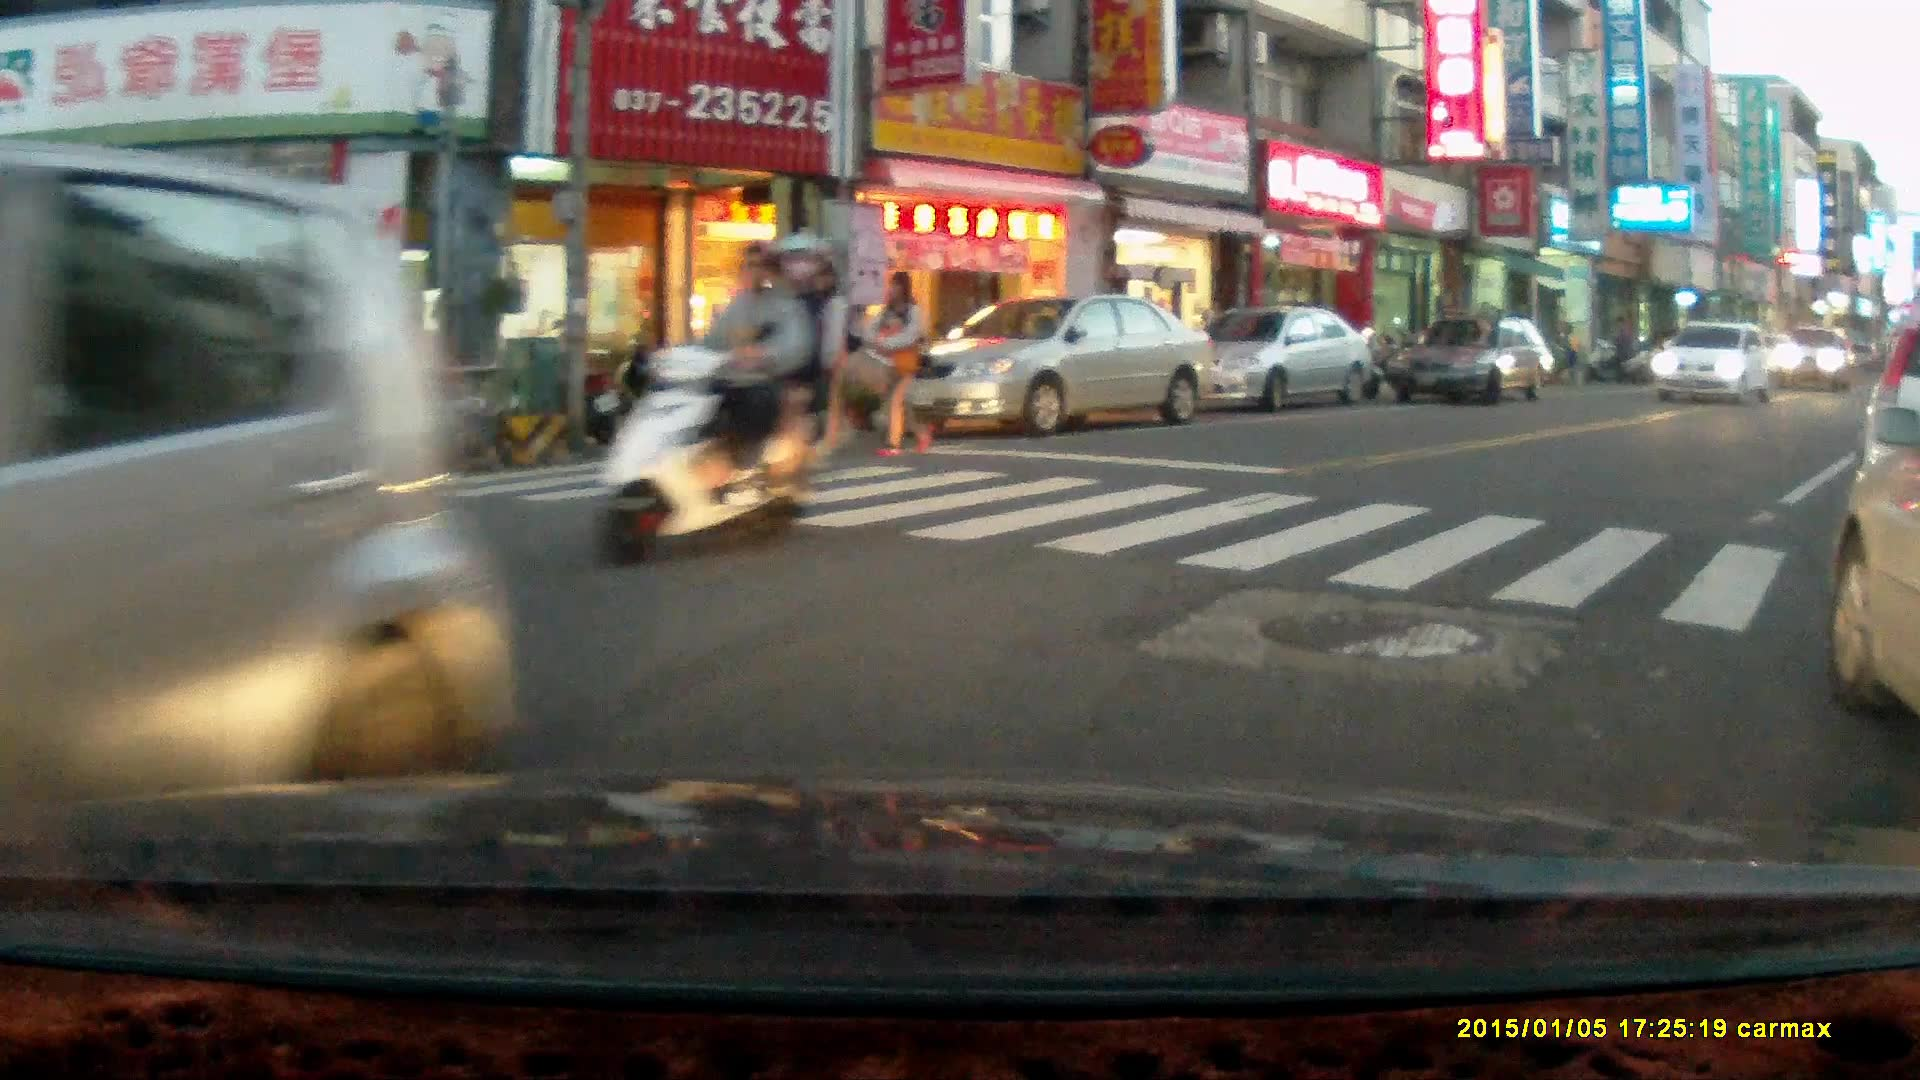pedestrian: (868, 265, 931, 457), (797, 261, 853, 454)
rider: (592, 228, 828, 569)
vehicle: (1, 141, 525, 819), (885, 291, 1218, 434), (1822, 427, 1920, 728), (1171, 304, 1375, 410), (1390, 312, 1557, 408), (1852, 352, 1920, 575), (1651, 319, 1775, 399), (1769, 320, 1861, 392)
